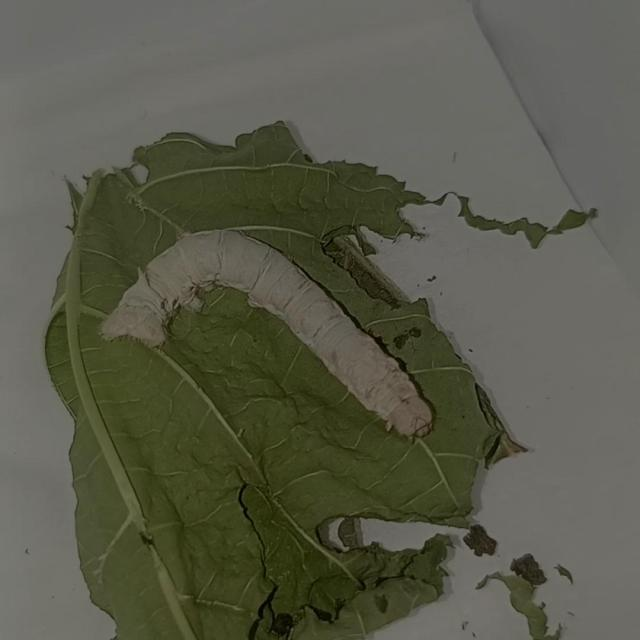Healthy: (86, 212, 446, 458)
